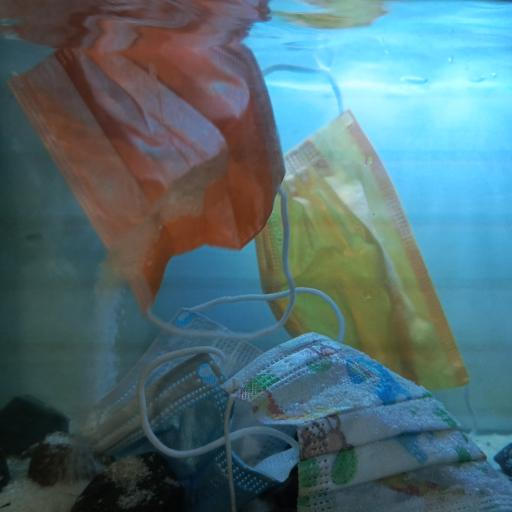mask: (6, 13, 286, 316), (256, 103, 471, 394), (80, 287, 347, 507), (217, 328, 512, 512)
